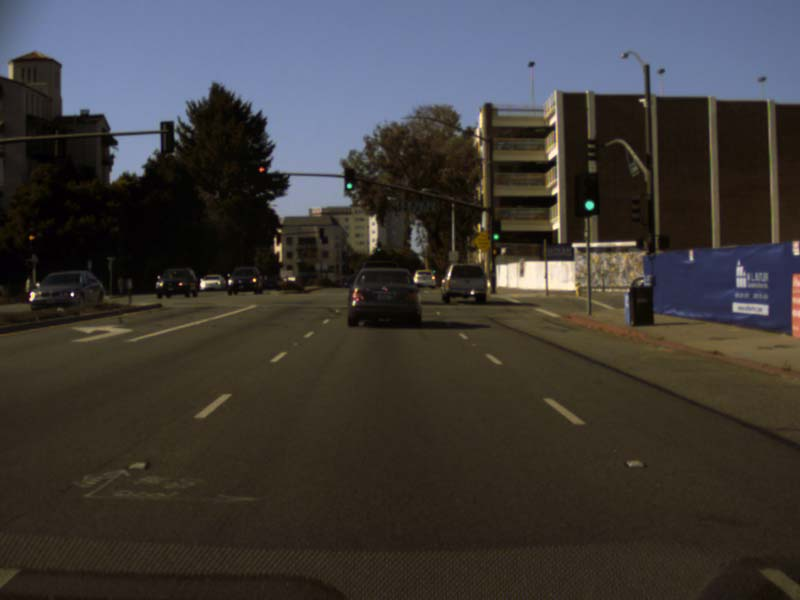Green: (574, 172, 598, 215), (345, 169, 354, 189), (492, 220, 499, 241)
Red: (27, 233, 36, 254), (258, 164, 265, 177)
